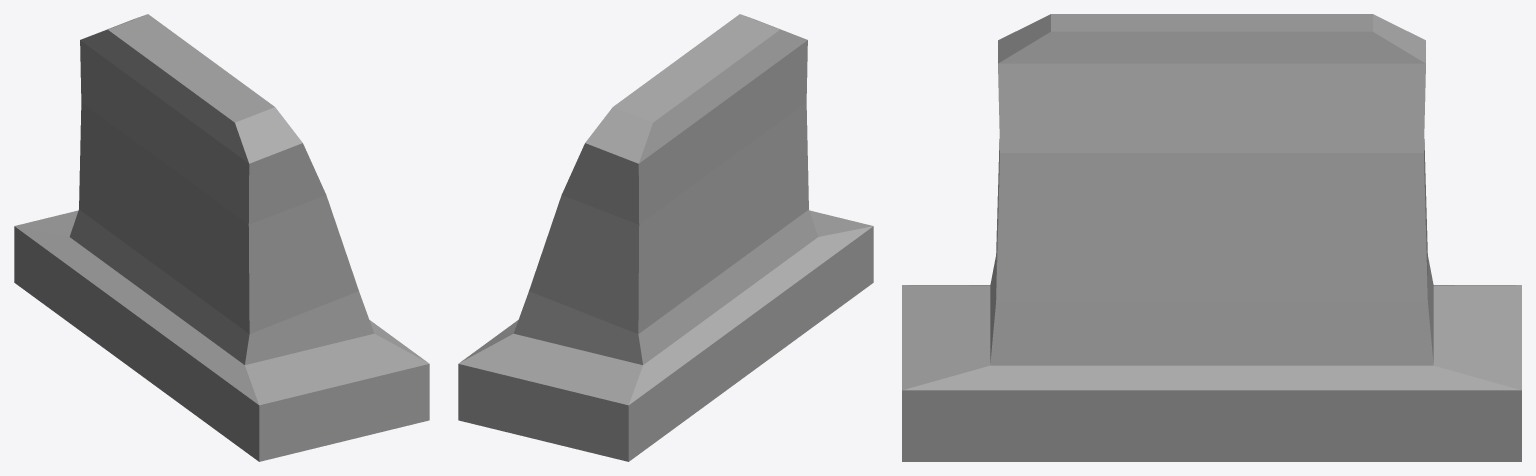
Rendered from tombstone6.fbx.
3 renders of one model, left to right at view 1: azimuth 30°, elevation 25°; view 2: azimuth 150°, elevation 25°; view 3: azimuth 270°, elevation 25°, orthographic. The views are drawn at different scales.
Visible parts, largest first — view 1: tombstone6; view 2: tombstone6; view 3: tombstone6.
Boxes of the visible parts, bbox=[...] form: tombstone6: bbox=[14, 14, 429, 461]; tombstone6: bbox=[458, 14, 873, 461]; tombstone6: bbox=[902, 14, 1521, 461].
Size of the model in its own units: 143 by 236 by 356.
